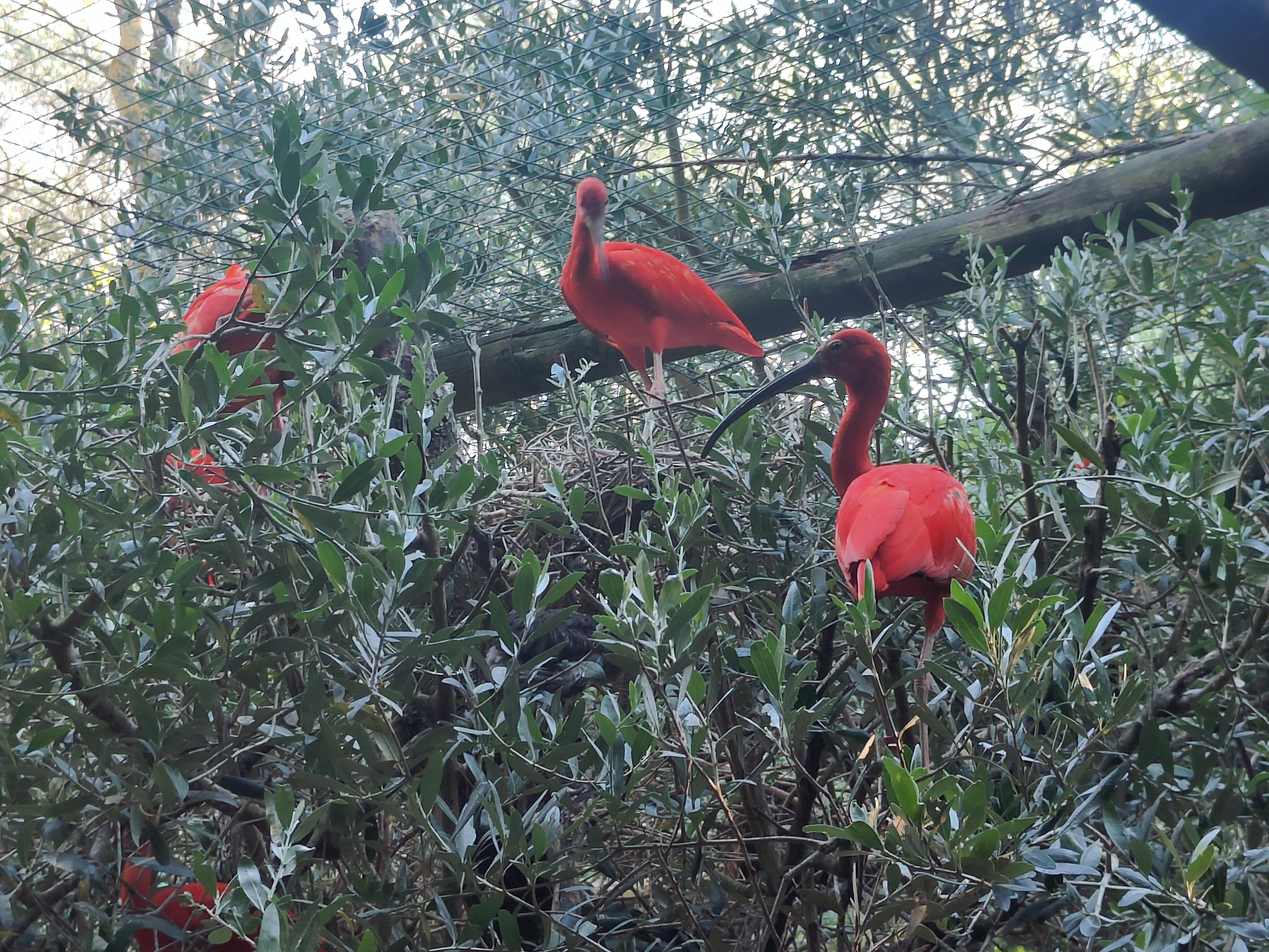apple: (700, 329, 976, 767), (559, 177, 764, 442), (170, 264, 276, 356)
